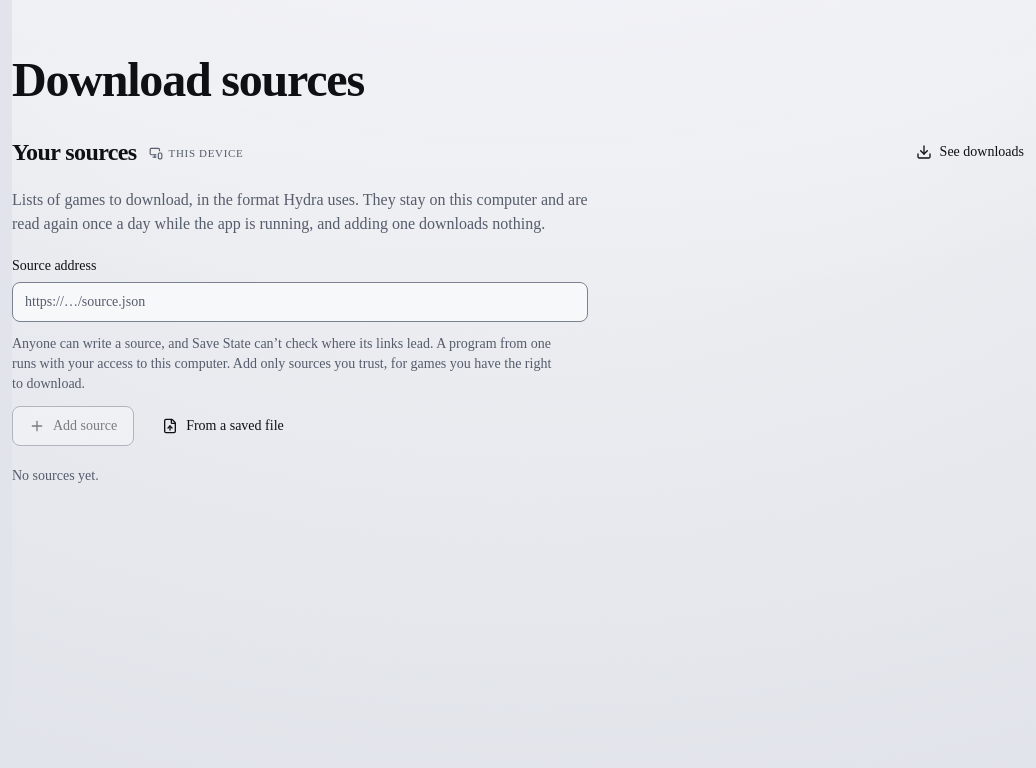
download sources › says a file that isn’t a source is the file’s fault, not an address’s
What coordinates should you click on to do the following:
click the button "From a saved file"
I would click on:
 (223, 426)
Its box is [146,406,300,446].
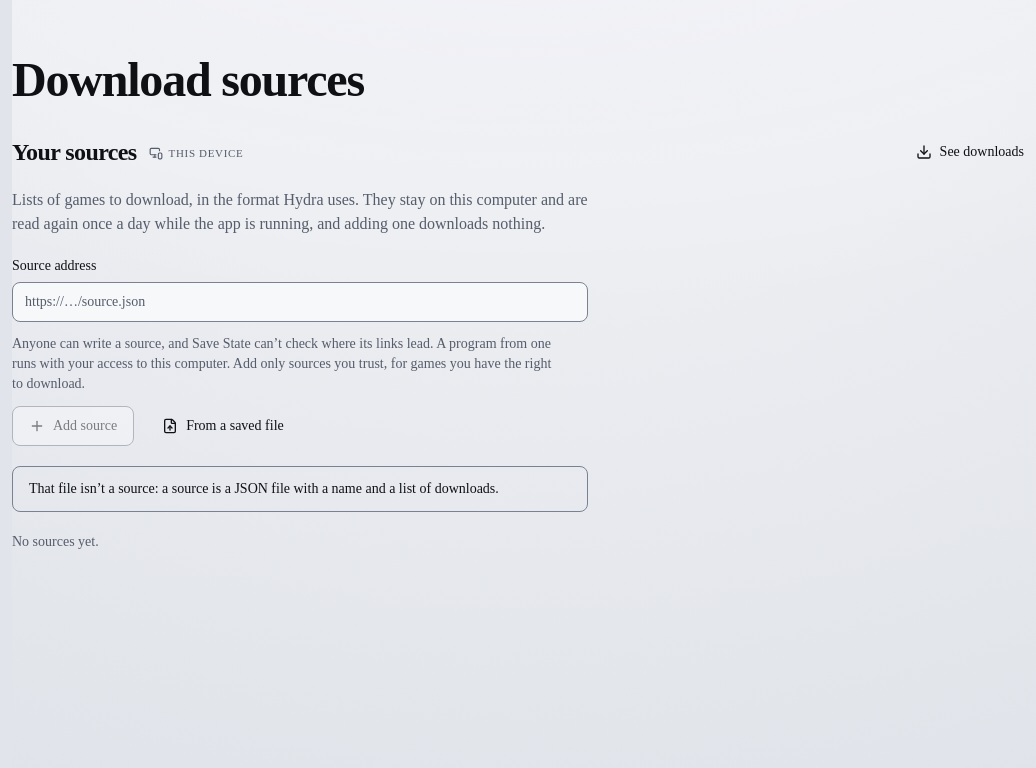
Now the message shows "That file isn’t a source", box [29,481,499,496]
